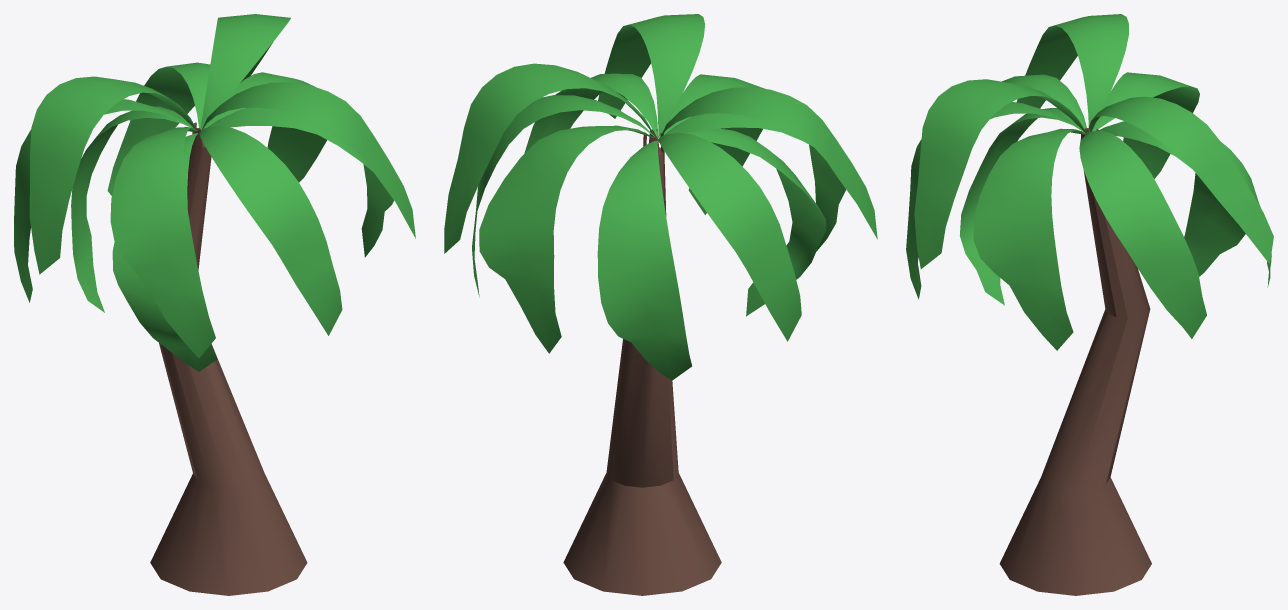
File: PalmTree1.fbx
The picture shows the model from 3 angles, left to right: view 1: azimuth 30°, elevation 25°; view 2: azimuth 150°, elevation 25°; view 3: azimuth 270°, elevation 25°; orthographic projection. The views are drawn at different scales.
Parts seen in each view (by area): view 1: palmTree1; view 2: palmTree1; view 3: palmTree1.
Boxes of the visible parts, box(x1,y1,x2,y2) form: palmTree1: box(14, 14, 415, 595); palmTree1: box(444, 14, 877, 595); palmTree1: box(906, 14, 1273, 595).
Size of the model in its own units: 266 by 367 by 253.
